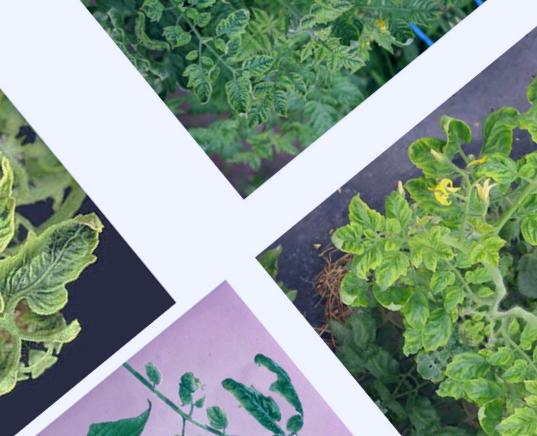Tomato leaf yellow virus: (0, 187, 133, 340), (0, 148, 59, 279), (399, 128, 462, 191), (171, 54, 231, 114), (206, 73, 265, 132), (404, 303, 463, 361), (315, 213, 374, 271), (467, 139, 522, 195), (364, 243, 418, 295), (228, 44, 278, 92), (212, 1, 262, 49), (373, 185, 420, 235), (233, 94, 277, 136), (504, 204, 537, 260), (394, 0, 444, 36), (262, 85, 302, 126), (277, 62, 314, 102), (508, 102, 537, 152), (420, 262, 458, 299), (424, 237, 458, 270), (414, 217, 447, 250), (290, 8, 322, 38), (478, 226, 508, 255), (456, 241, 486, 270), (185, 0, 225, 17), (321, 50, 345, 73), (328, 0, 352, 20), (302, 0, 337, 11), (537, 166, 537, 235)
